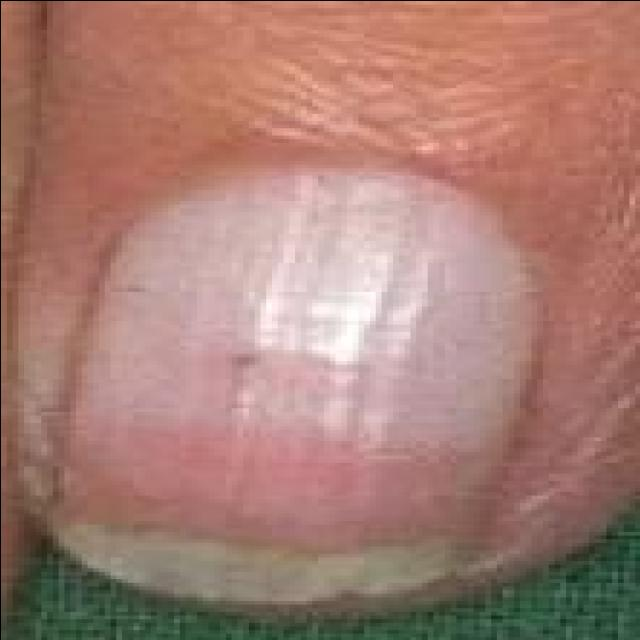Nail: (43, 173, 541, 598)
